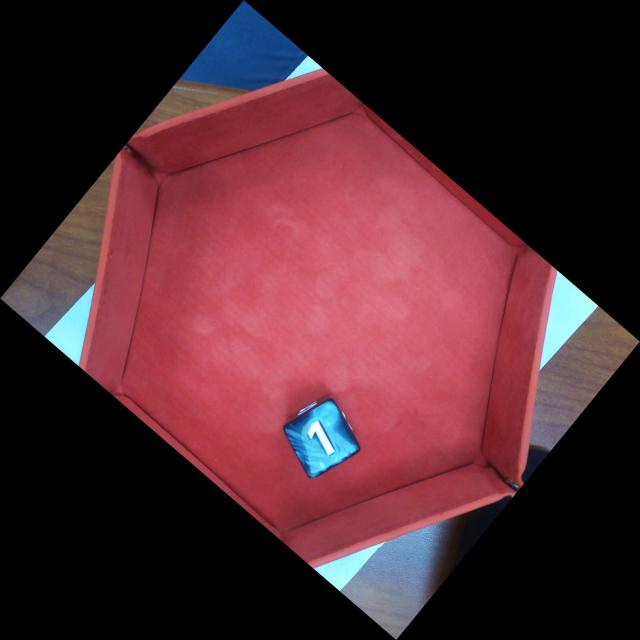dice: (280, 395, 362, 482)
